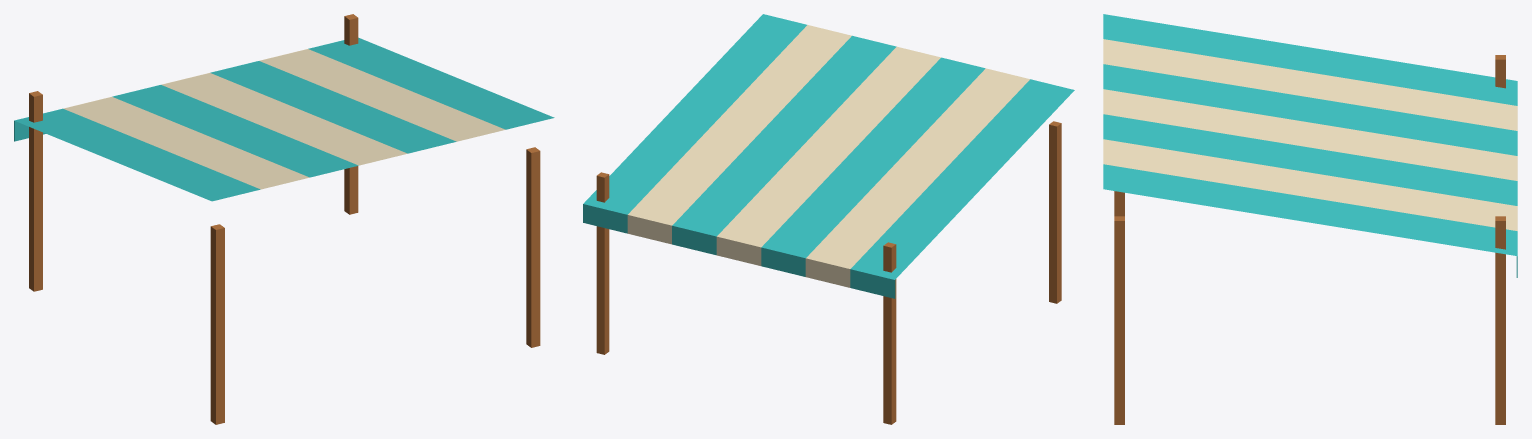
The model's file is shade_canopy.fbx.
The picture shows the model from 3 angles, left to right: view 1: azimuth 30°, elevation 25°; view 2: azimuth 150°, elevation 25°; view 3: azimuth 270°, elevation 25°; orthographic projection. The views are drawn at different scales.
Parts seen in each view (by area): view 1: shade_canopy; view 2: shade_canopy; view 3: shade_canopy.
Part boxes in pixels (left/top/right/bottom): shade_canopy: left=14, top=14, right=554, bottom=424; shade_canopy: left=583, top=14, right=1074, bottom=424; shade_canopy: left=1103, top=14, right=1517, bottom=424.
Bounding box in the file's own units: 5 × 3.2 × 5.
